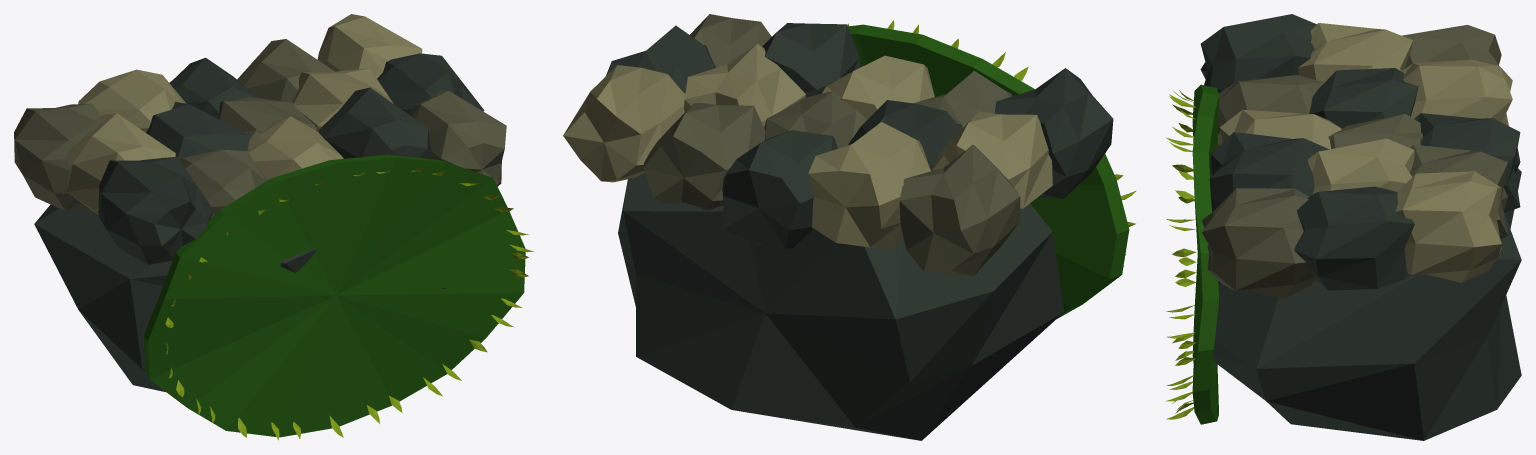
Rendered from CascadeBank.obj.
3 views of the same model, side by side, from view 1: azimuth 30°, elevation 25°; view 2: azimuth 150°, elevation 25°; view 3: azimuth 270°, elevation 25° (orthographic). The views are drawn at different scales.
Parts seen in each view (by area): view 1: CascadeBank; view 2: CascadeBank; view 3: CascadeBank.
Boxes of the visible parts, x1,y1,x2,y2 form: CascadeBank: (14,14,534,440); CascadeBank: (563,14,1136,440); CascadeBank: (1165,14,1521,440).
Size of the model in its own units: 420 by 300 by 310.
